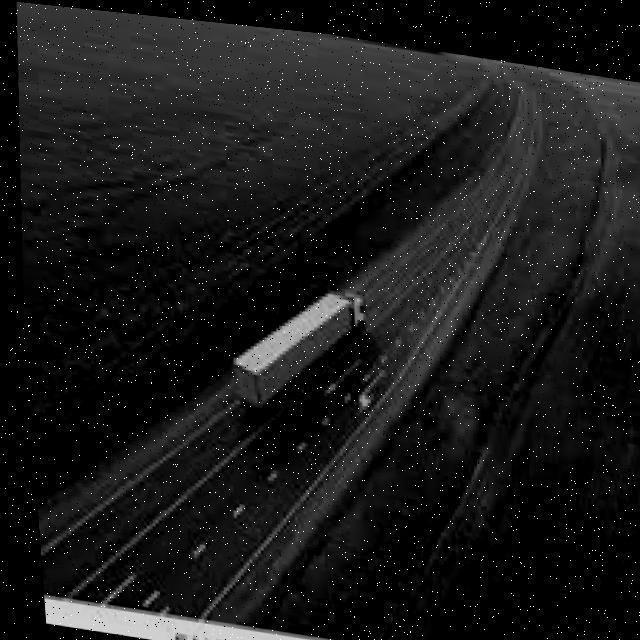truck: (218, 263, 370, 418)
